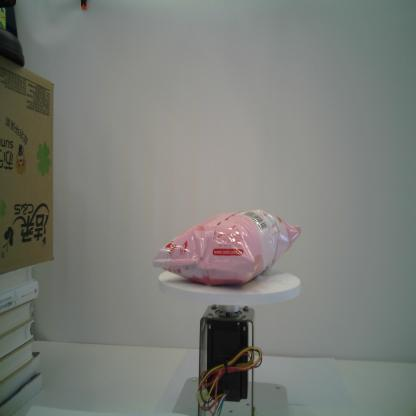Puffed Food: (150, 205, 303, 289)
